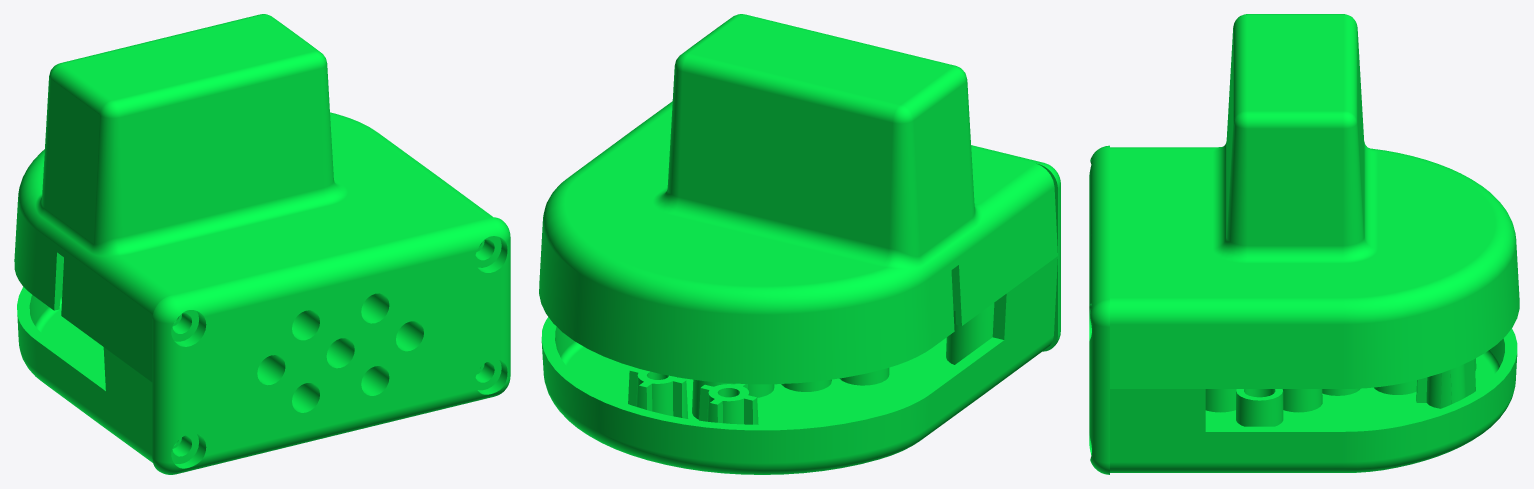
The model's file is gripper_base.dae.
3 views of the same model, side by side, from view 1: azimuth 30°, elevation 25°; view 2: azimuth 150°, elevation 25°; view 3: azimuth 270°, elevation 25° (orthographic). The views are drawn at different scales.
Parts seen in each view (by area): view 1: Brep (×3); view 2: Brep (×3); view 3: Brep (×3).
Boxes of the visible parts, <box> form: Brep (×3): <box>14,14,510,474</box>; Brep (×3): <box>539,14,1060,474</box>; Brep (×3): <box>1089,14,1519,474</box>.
Size of the model in its own units: 58 by 62.23 by 50.9.
